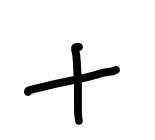plus: (24, 43, 120, 125)
